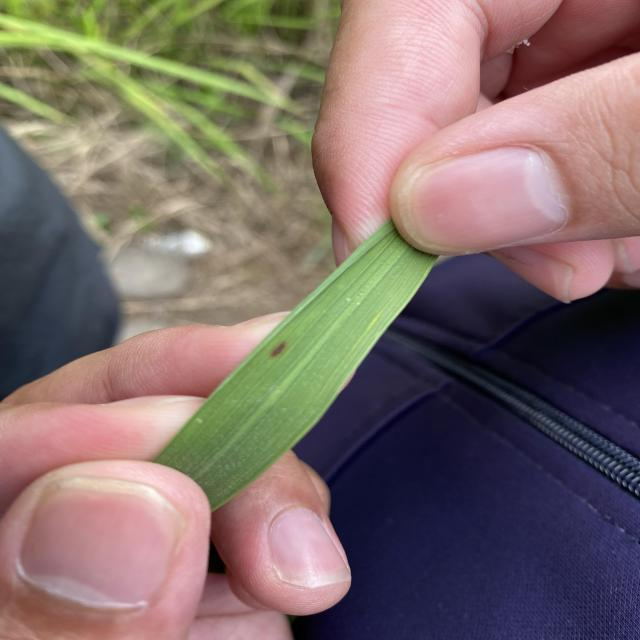Dom nau: (270, 339, 288, 356)
